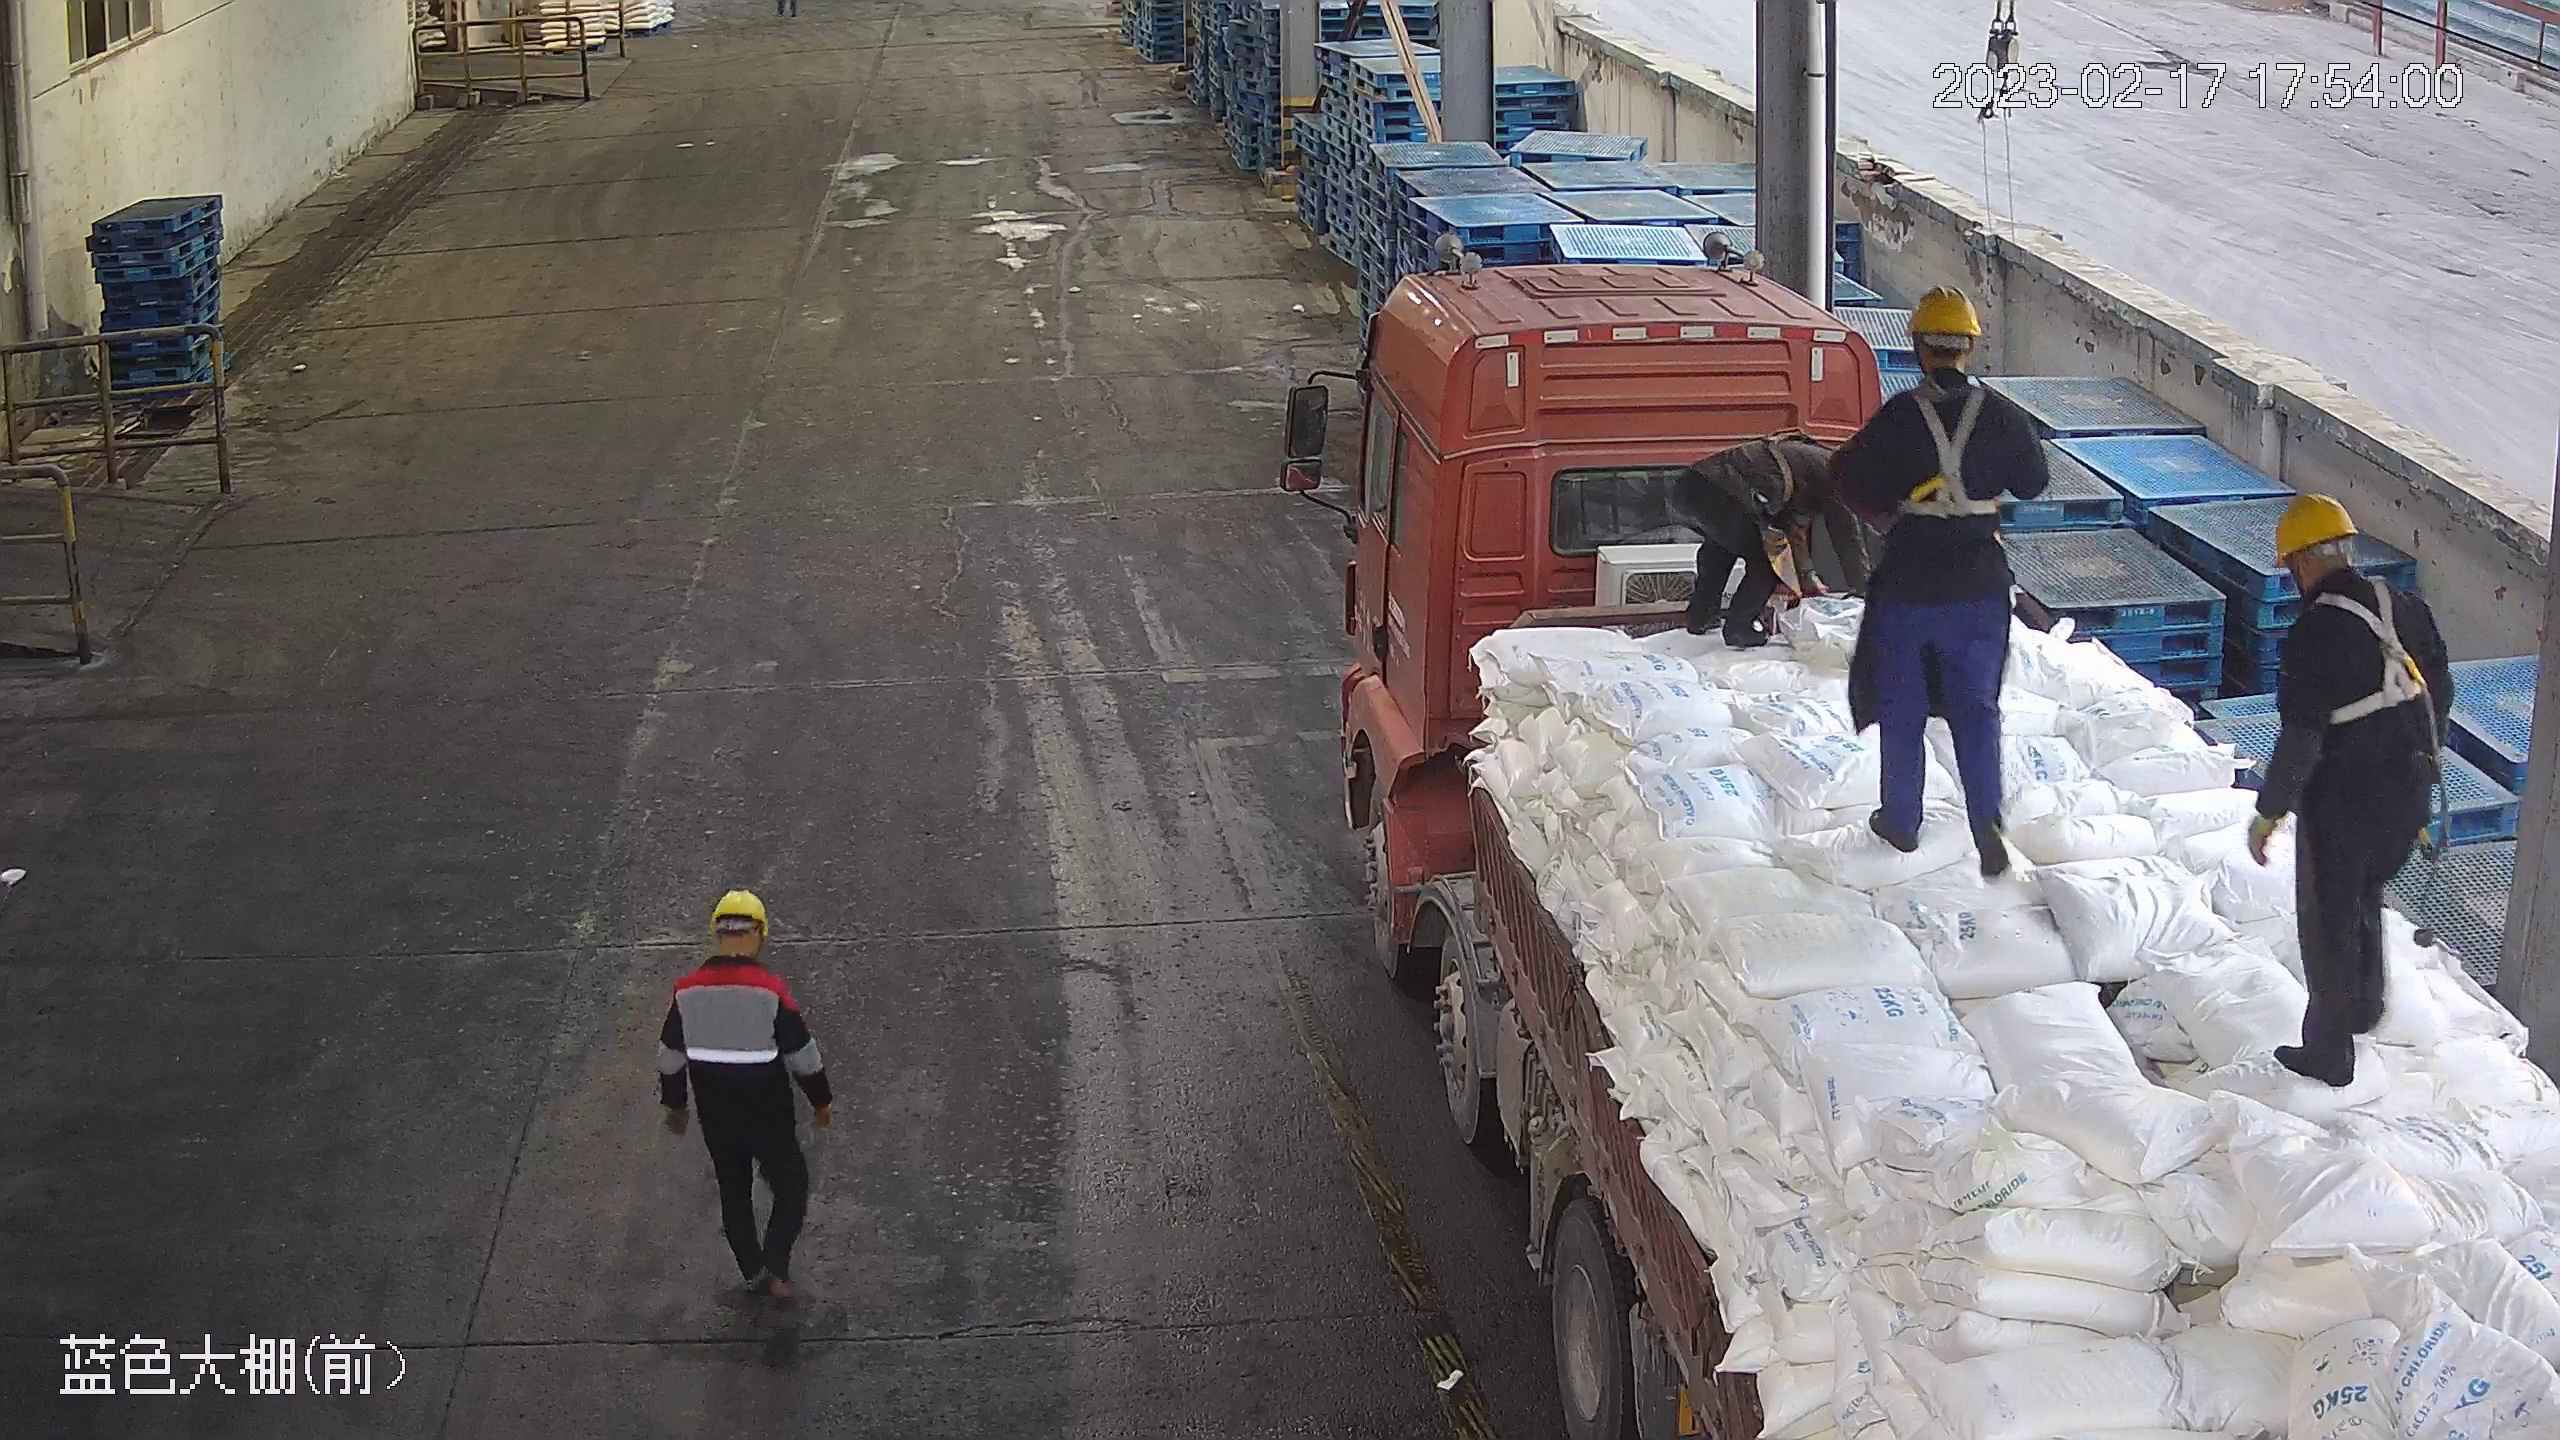belt: (2304, 578, 2430, 726), (1891, 382, 2016, 529), (1742, 424, 1817, 510)
head: (1863, 284, 2042, 463), (2259, 494, 2439, 656), (665, 888, 803, 1020)
helmet: (2267, 491, 2361, 568), (1906, 285, 1981, 339), (706, 886, 774, 941)
people: (1836, 287, 2046, 881), (2242, 494, 2449, 1089), (658, 883, 839, 1315), (1662, 430, 1865, 649)
truck: (1272, 227, 2558, 1440)
